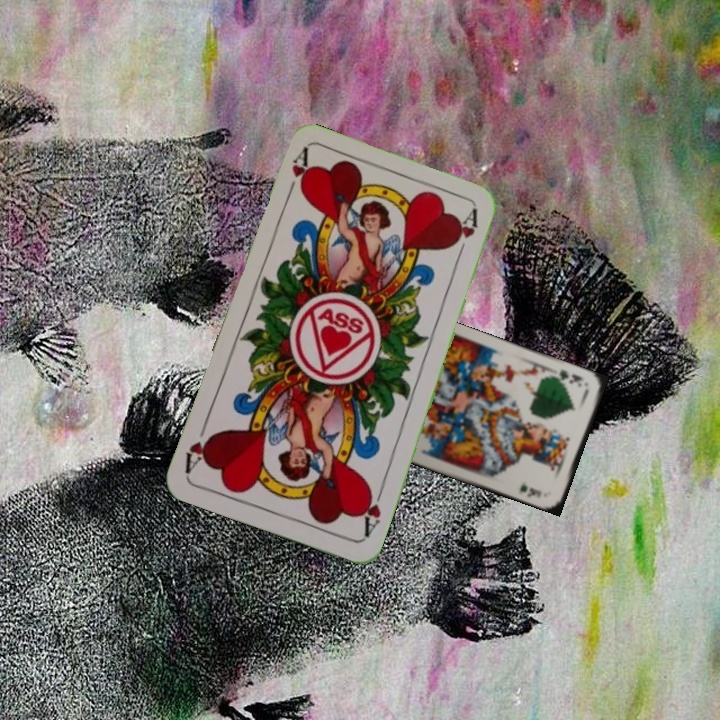GK: (549, 365, 586, 390)
HA: (282, 145, 314, 203), (356, 483, 386, 540)
